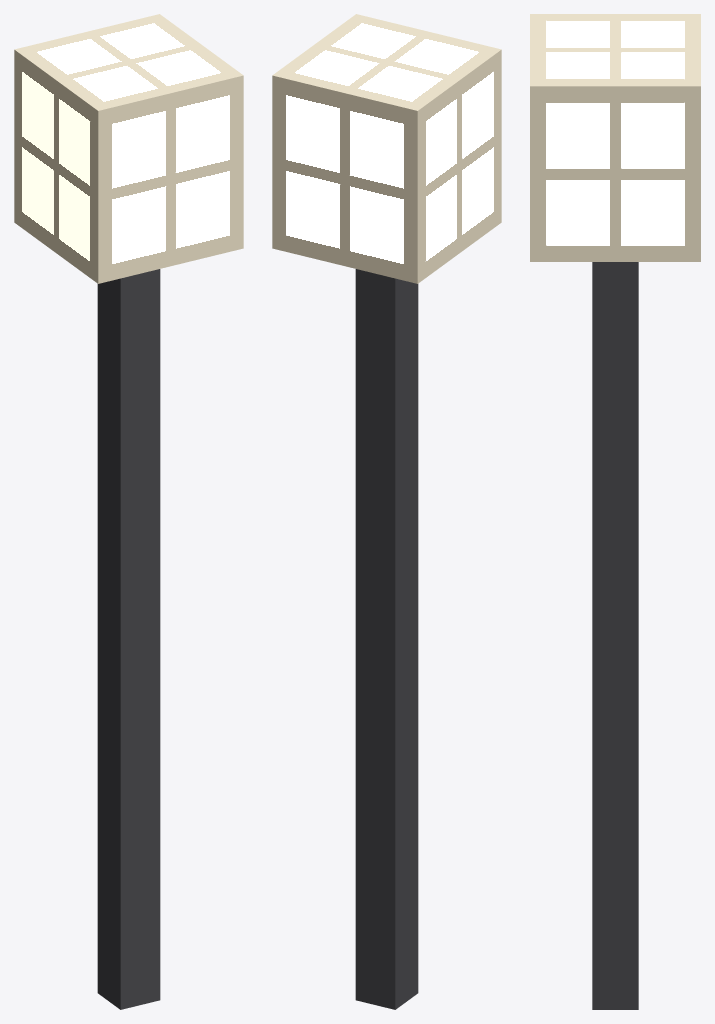
The model's file is lamp.glb.
3 views of the same model, side by side, from view 1: azimuth 30°, elevation 25°; view 2: azimuth 150°, elevation 25°; view 3: azimuth 270°, elevation 25° (orthographic).
Visible parts, largest first — view 1: lamp; view 2: lamp; view 3: lamp.
Boxes of the visible parts, left/top/right/bottom form: lamp: left=14, top=14, right=243, bottom=1009; lamp: left=272, top=14, right=501, bottom=1009; lamp: left=530, top=14, right=700, bottom=1009.
Bounding box in the file's own units: 0.44 × 2.7 × 0.44.
